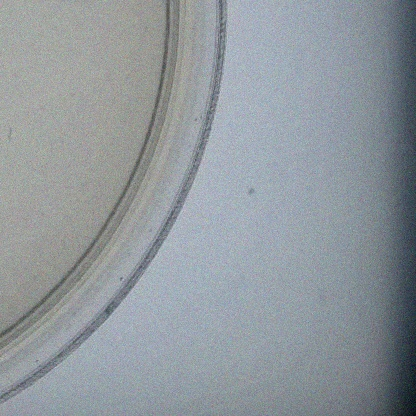worm: (0, 126, 16, 146)
